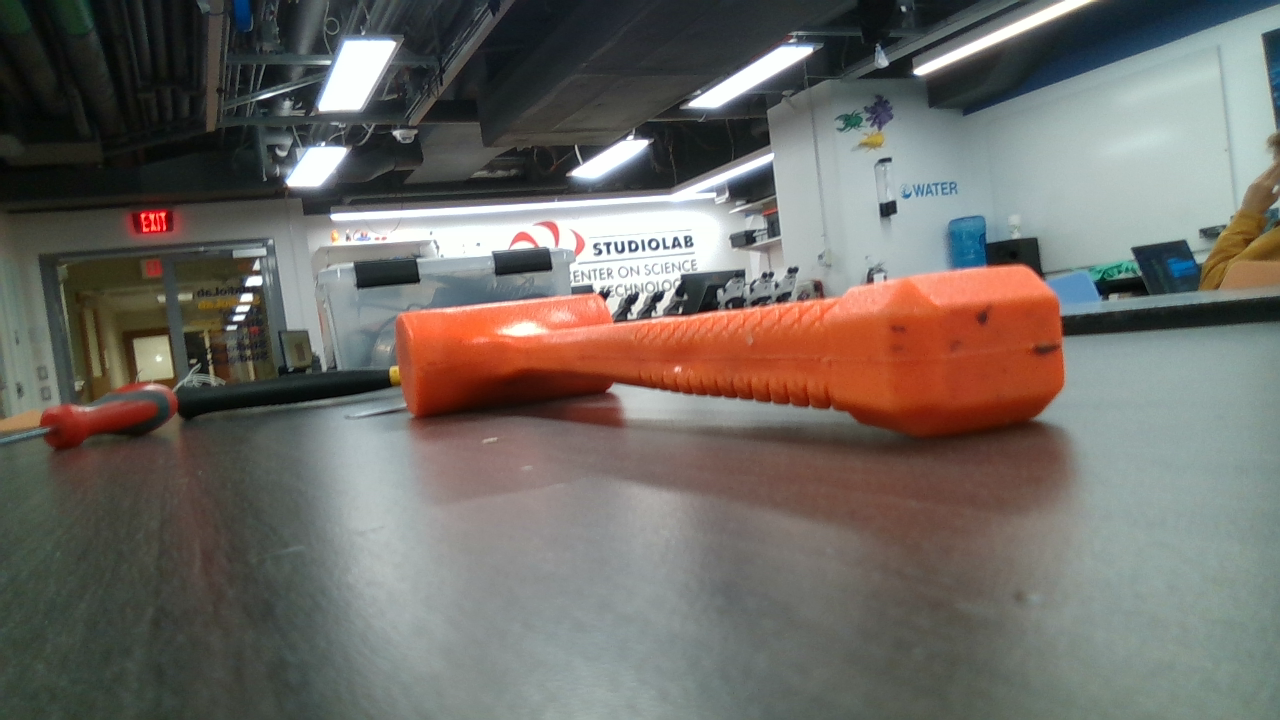Orange Hammer: (398, 265, 1061, 437)
